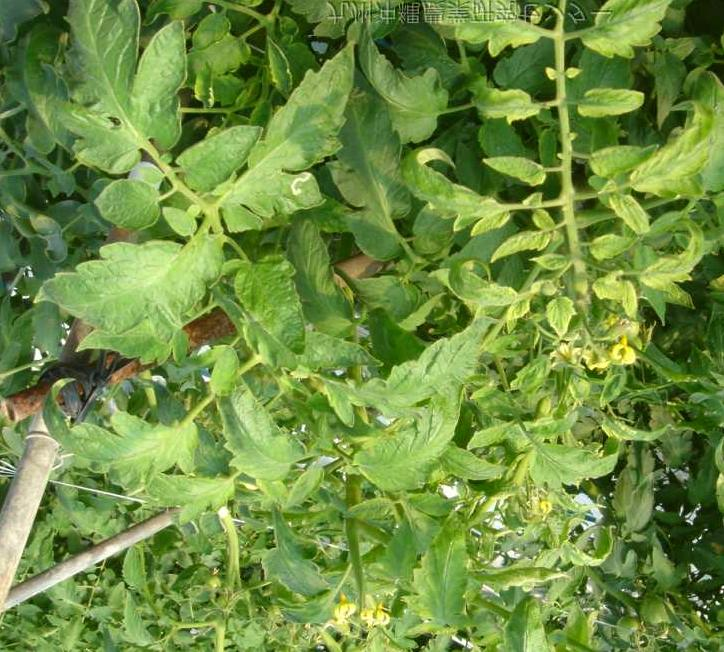Tomato leaf yellow virus: (20, 0, 184, 191), (220, 35, 367, 225), (63, 226, 237, 347), (343, 307, 513, 411), (20, 413, 211, 488), (348, 392, 483, 490), (404, 499, 485, 632), (627, 86, 724, 193), (402, 146, 506, 242), (104, 470, 258, 521), (587, 0, 697, 71), (418, 0, 538, 53), (643, 215, 716, 299), (524, 437, 626, 493), (577, 128, 664, 186), (467, 73, 550, 129), (480, 143, 555, 192), (571, 83, 654, 118), (542, 289, 590, 340)
